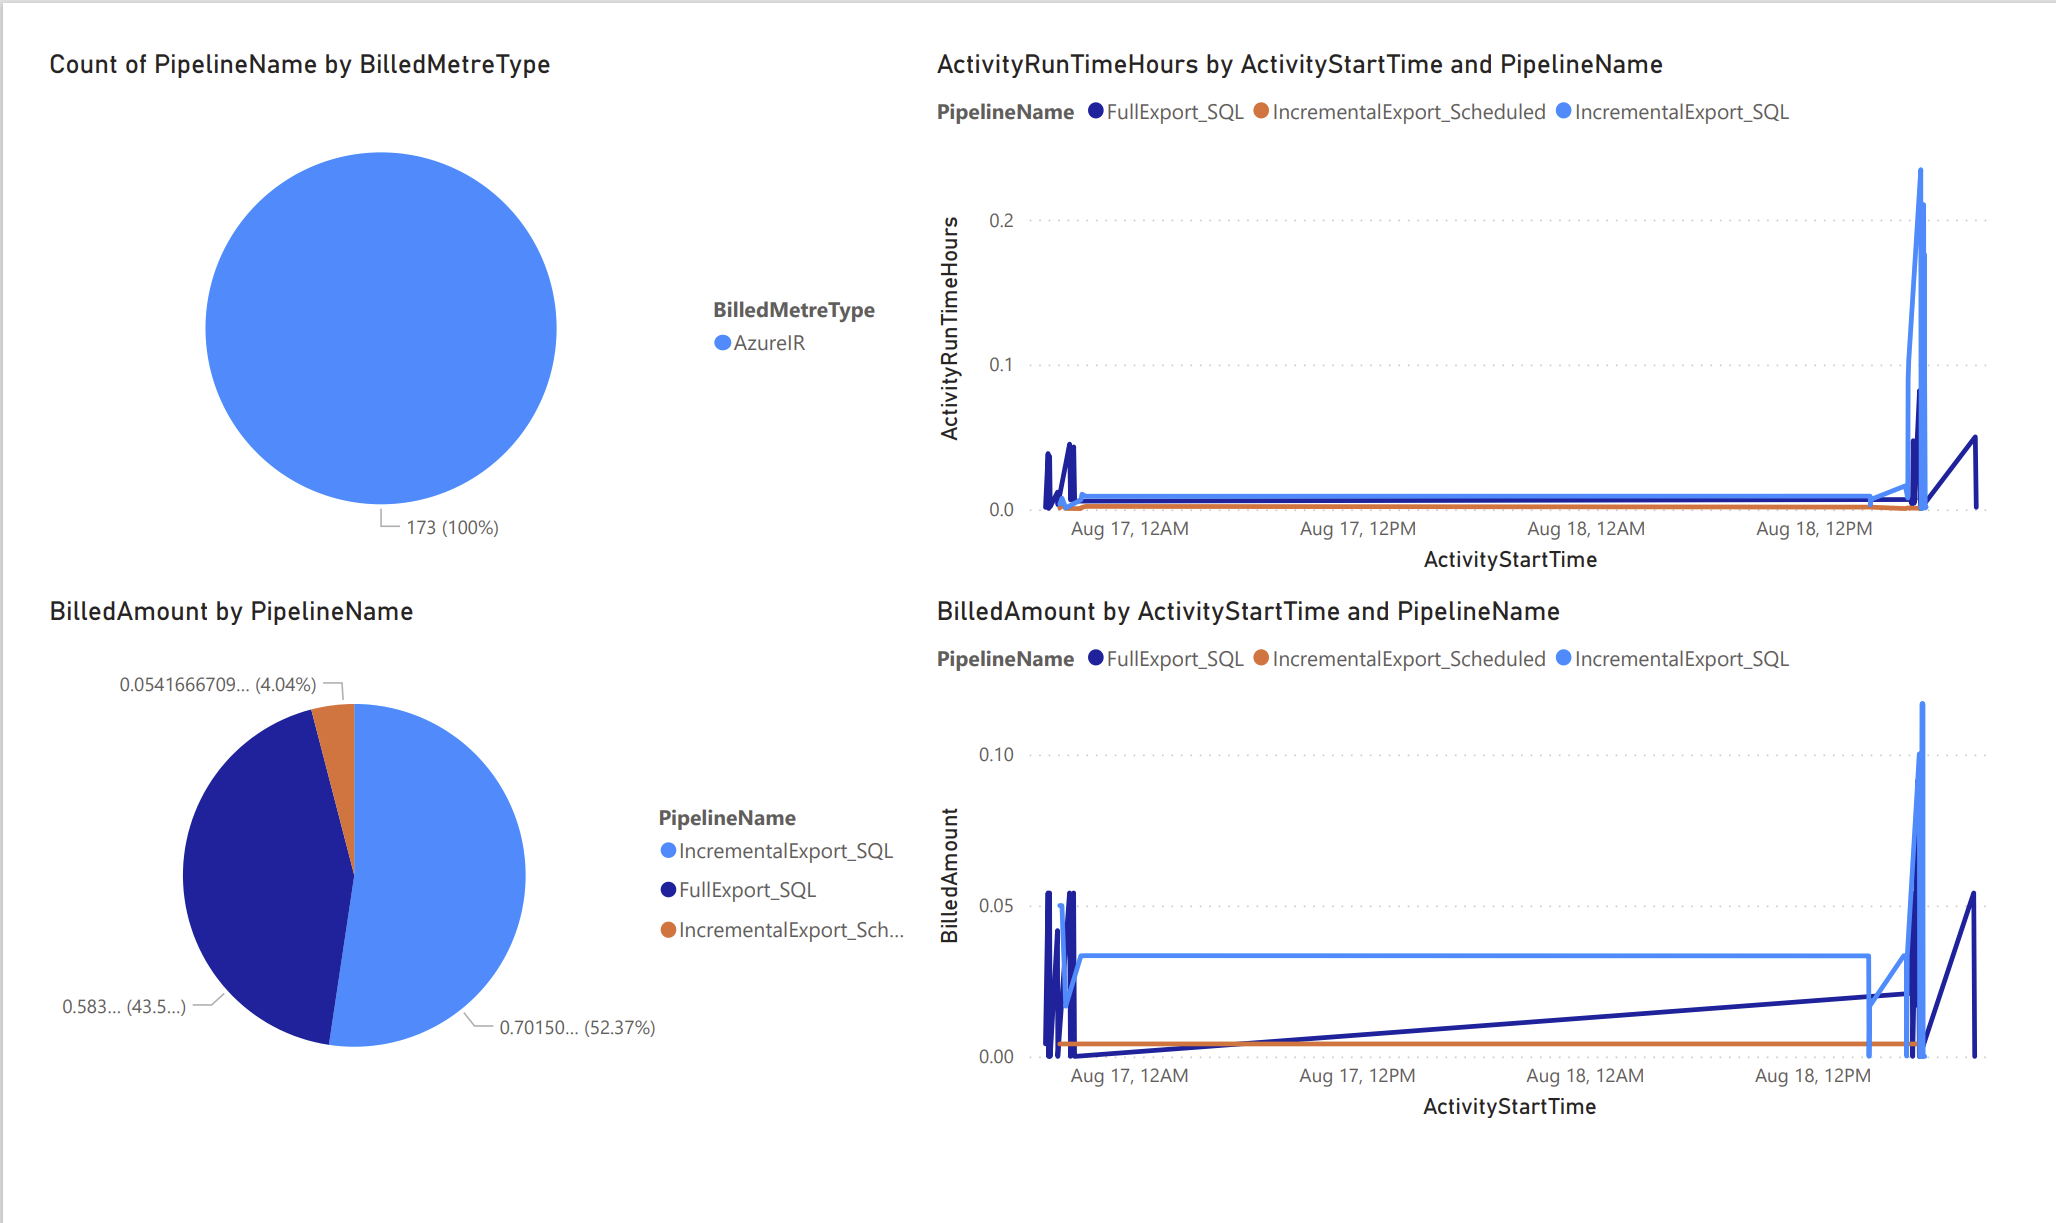

What the dashboard file says about the page in this screenshot:
{"tool":"powerbi","page":{"name":"Page 1","canvas":[1280,720],"ordinal":0},"visuals":[{"type":"pieChart","fields":{"Y":["CountNonNull(gmsynovintiv_activities_20210826181109.PipelineName)"],"Category":["gmsynovintiv_activities_20210826181109.BilledMetreType"]},"box":[9.8,0,548.5,336.9],"z":0},{"type":"pieChart","fields":{"Y":["Sum(gmsynovintiv_activities_20210826181109.BilledAmount)"],"Category":["gmsynovintiv_activities_20210826181109.PipelineName"]},"box":[9.8,346.8,562.6,336.9],"z":1000},{"type":"lineChart","fields":{"Y":["Sum(gmsynovintiv_activities_20210826181109.ActivityRunTimeHours)"],"Series":["gmsynovintiv_activities_20210826181109.PipelineName"],"Category":["gmsynovintiv_activities_20210826181109.ActivityStartTime"]},"box":[572.4,0,707.7,336.9],"z":2000},{"type":"lineChart","fields":{"Y":["Sum(gmsynovintiv_activities_20210826181109.BilledAmount)"],"Series":["gmsynovintiv_activities_20210826181109.PipelineName"],"Category":["gmsynovintiv_activities_20210826181109.ActivityStartTime"]},"box":[573,347,707,337],"z":3000}]}

Visuals, with their boxes on the page's 1280x720 design canvas (x1, y1, x2, y2). These are canvas units, not pixel positions in the 2056x1223 screenshot, which may show the page scaled, cropped or inside an application window:
pieChart - CountNonNull(gmsynovintiv_activities_20210826181109.PipelineName) x gmsynovintiv_activities_20210826181109.BilledMetreType: pyautogui.locateOnScreen(10, 0, 558, 337)
pieChart - Sum(gmsynovintiv_activities_20210826181109.BilledAmount) x gmsynovintiv_activities_20210826181109.PipelineName: pyautogui.locateOnScreen(10, 347, 572, 684)
lineChart - Sum(gmsynovintiv_activities_20210826181109.ActivityRunTimeHours) x gmsynovintiv_activities_20210826181109.PipelineName: pyautogui.locateOnScreen(572, 0, 1280, 337)
lineChart - Sum(gmsynovintiv_activities_20210826181109.BilledAmount) x gmsynovintiv_activities_20210826181109.PipelineName: pyautogui.locateOnScreen(573, 347, 1280, 684)
